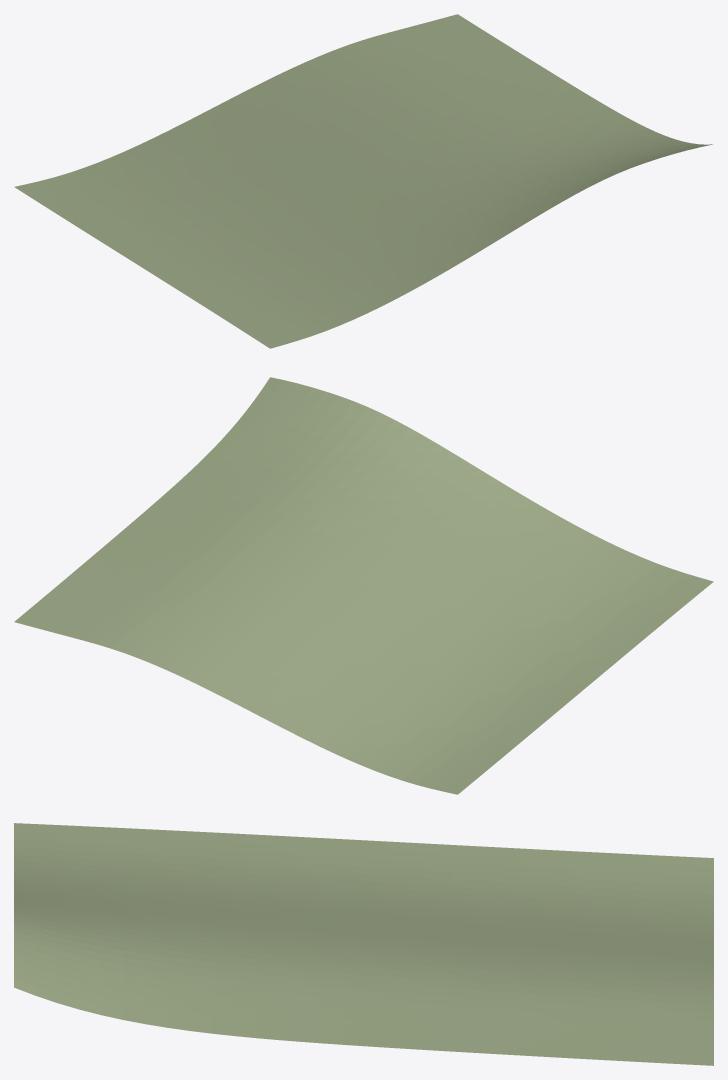
The model's file is canyon-3-1.glb.
The picture shows the model from 3 angles, top to bottom: view 1: azimuth 30°, elevation 25°; view 2: azimuth 150°, elevation 25°; view 3: azimuth 270°, elevation 25°; orthographic projection. The views are drawn at different scales.
Parts seen in each view (by area): view 1: canyon-3-1; view 2: canyon-3-1; view 3: canyon-3-1.
Boxes of the visible parts, left/top/right/bottom form: canyon-3-1: left=14, top=14, right=712, bottom=348; canyon-3-1: left=14, top=377, right=713, bottom=794; canyon-3-1: left=14, top=823, right=713, bottom=1065.
Bounding box in the file's own units: 128 × 33.83 × 128.
